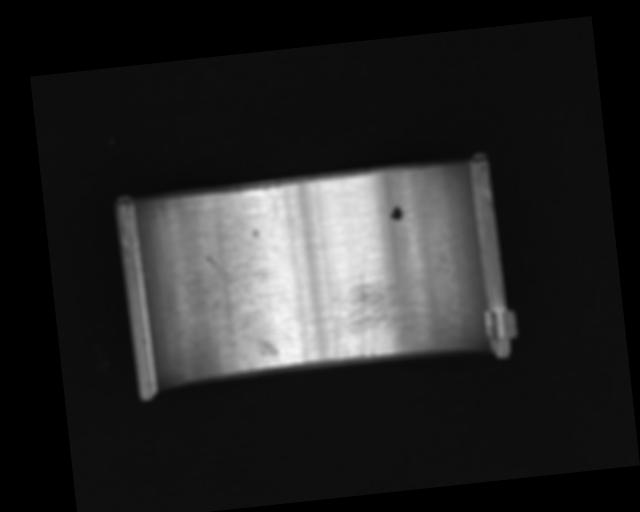blot: (388, 204, 404, 221)
bruise: (252, 334, 280, 359), (251, 226, 260, 239)
nick: (206, 252, 252, 311)
scratch: (325, 264, 457, 361)
